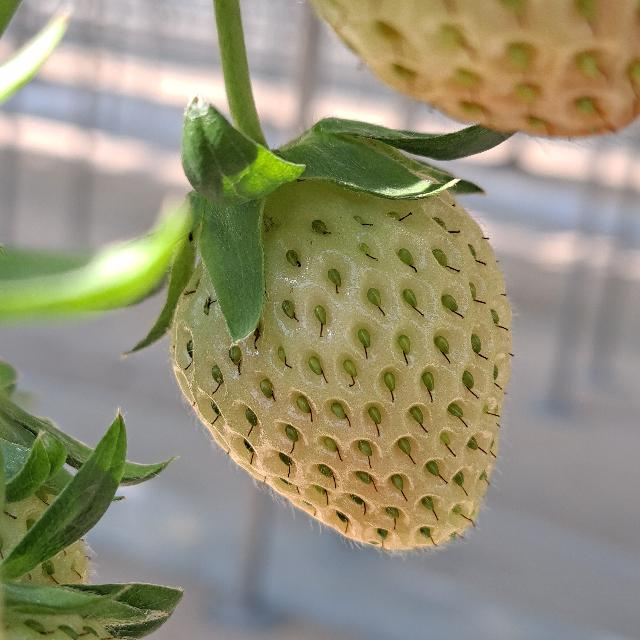Health_25: (170, 164, 512, 550)
